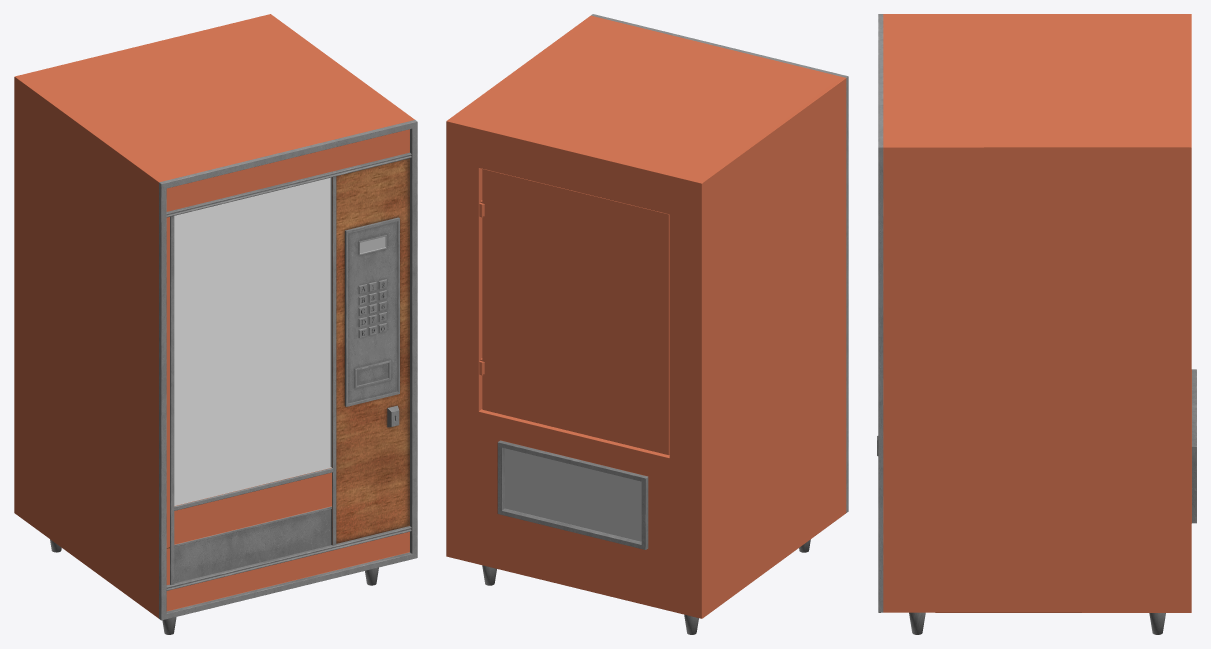
File: vendNEWblend.fbx
3 renders of one model, left to right at view 1: azimuth 30°, elevation 25°; view 2: azimuth 150°, elevation 25°; view 3: azimuth 270°, elevation 25°, orthographic. The views are drawn at different scales.
Visible parts, largest first — view 1: vend.m; view 2: vend.m; view 3: vend.m.
Part boxes in pixels (x1=…): vend.m: x1=14, y1=14, x2=417, y2=634; vend.m: x1=446, y1=14, x2=848, y2=634; vend.m: x1=877, y1=14, x2=1196, y2=634.
Bounding box in the file's own units: 205 × 357 × 207.
